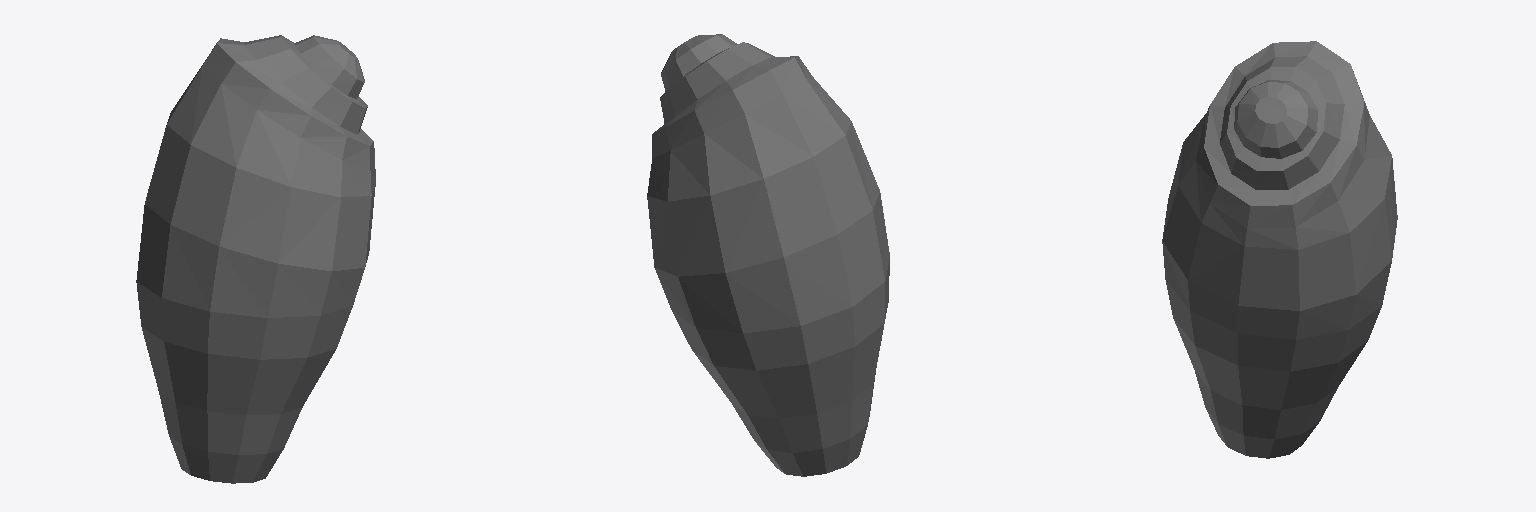
Rendered from BlueRoboLeftHand.obj.
3 views of the same model, side by side, from view 1: azimuth 30°, elevation 25°; view 2: azimuth 150°, elevation 25°; view 3: azimuth 270°, elevation 25° (orthographic).
Parts seen in each view (by area): view 1: polySurface2 BlueRobo1:Mesh; view 2: polySurface2 BlueRobo1:Mesh; view 3: polySurface2 BlueRobo1:Mesh.
Boxes of the visible parts, x1,y1,x2,y2 form: polySurface2 BlueRobo1:Mesh: [136, 35, 375, 483]; polySurface2 BlueRobo1:Mesh: [647, 34, 889, 476]; polySurface2 BlueRobo1:Mesh: [1162, 41, 1397, 458].
Bounding box in the file's own units: 1.67 × 3.09 × 1.61.